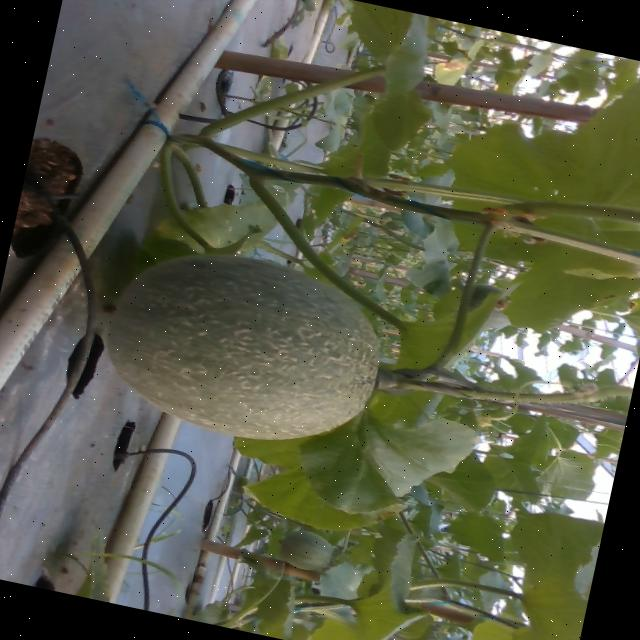melon: (106, 256, 376, 439)
